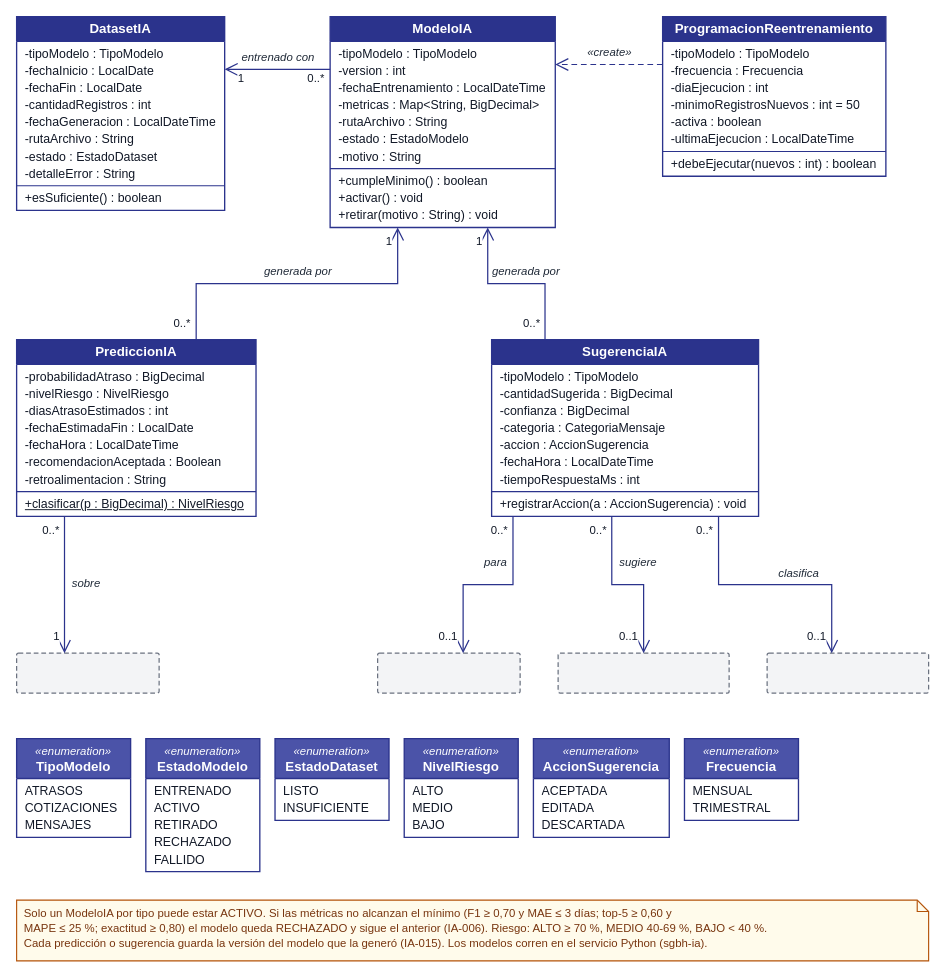
This 946x979 diagram has some shape labels left out. Here are the shapes that lost their labels. From the top down, the centre of each, then its label:
point (87, 672): «ver proyectos» Tarea
point (448, 672): «ver cotizaciones» Cotizacion
point (643, 672): «ver cotizaciones» ElementoCatalogo
point (847, 672): «ver clientes» Comunicacion
